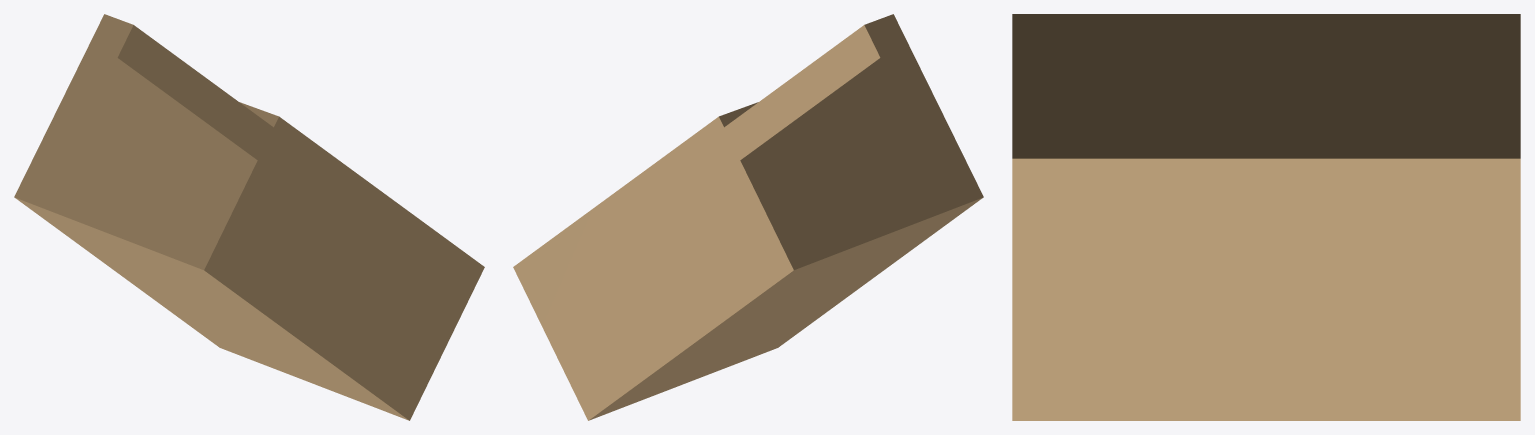
3 views of the same model, side by side, from view 1: azimuth 30°, elevation 25°; view 2: azimuth 150°, elevation 25°; view 3: azimuth 270°, elevation 25° (orthographic). The views are drawn at different scales.
Visible parts, largest first — view 1: 0_3_0_2_2_1_2_2; view 2: 0_3_0_2_2_1_2_2; view 3: 0_3_0_2_2_1_2_2.
Part boxes in pixels (<box>): 0_3_0_2_2_1_2_2: <box>14,14,484,420</box>; 0_3_0_2_2_1_2_2: <box>513,14,983,420</box>; 0_3_0_2_2_1_2_2: <box>1012,14,1520,420</box>.
Size of the model in its own units: 17.85 by 18.06 by 24.
